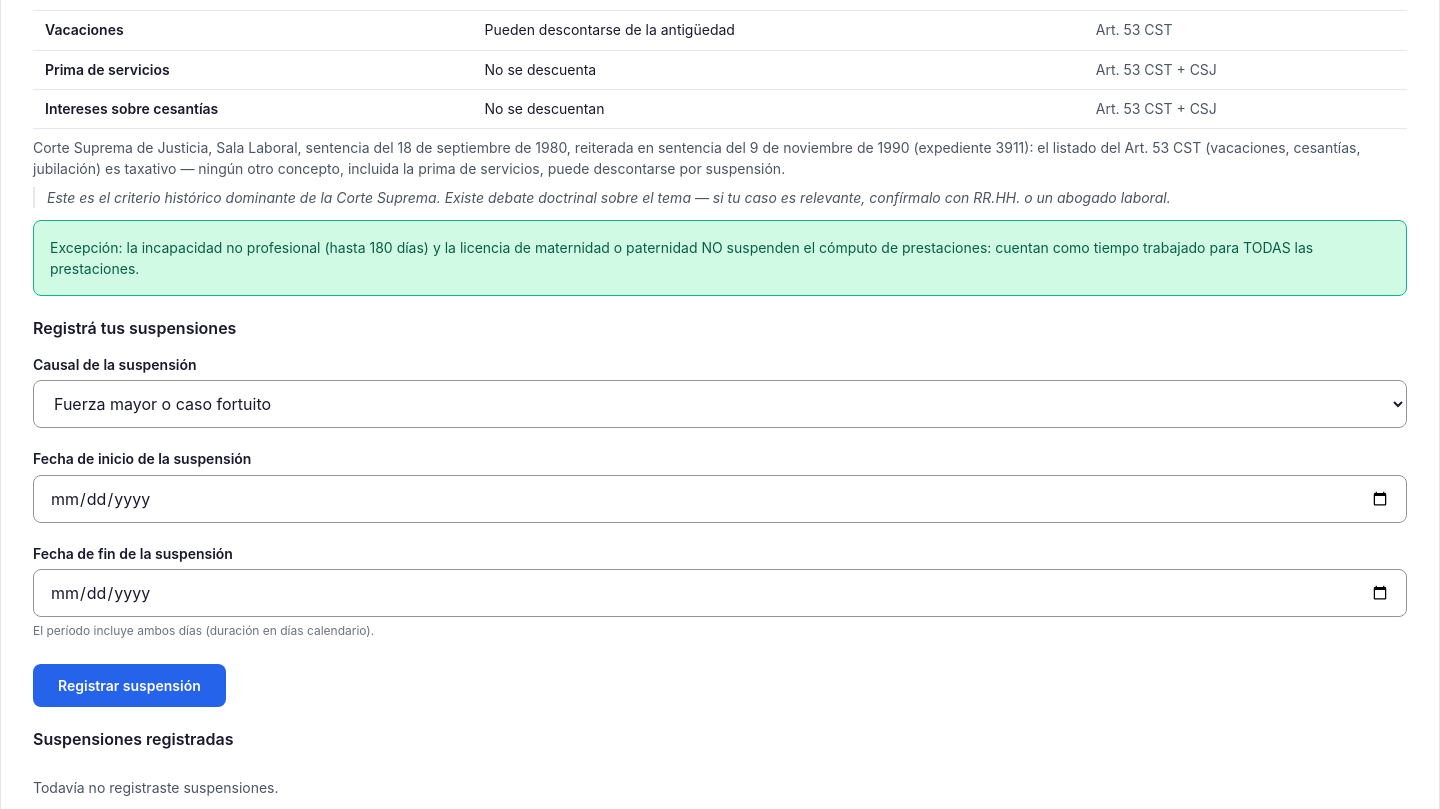
it: SuspensionSection — registry CRUD + persistence (REQ-4) › adds a period, renders it and persists it under nomina-clara-suspensiones
(page scrolled)
Step 1. Select "Fuerza mayor o caso fortuito" in the dropdown labelled "Causal de la suspensión" → (720, 404), box [33, 380, 1407, 428]
Step 2. Type "2026-01-01" into the date field labelled "Fecha de inicio de la suspensión" → (720, 499), box [33, 475, 1407, 523]
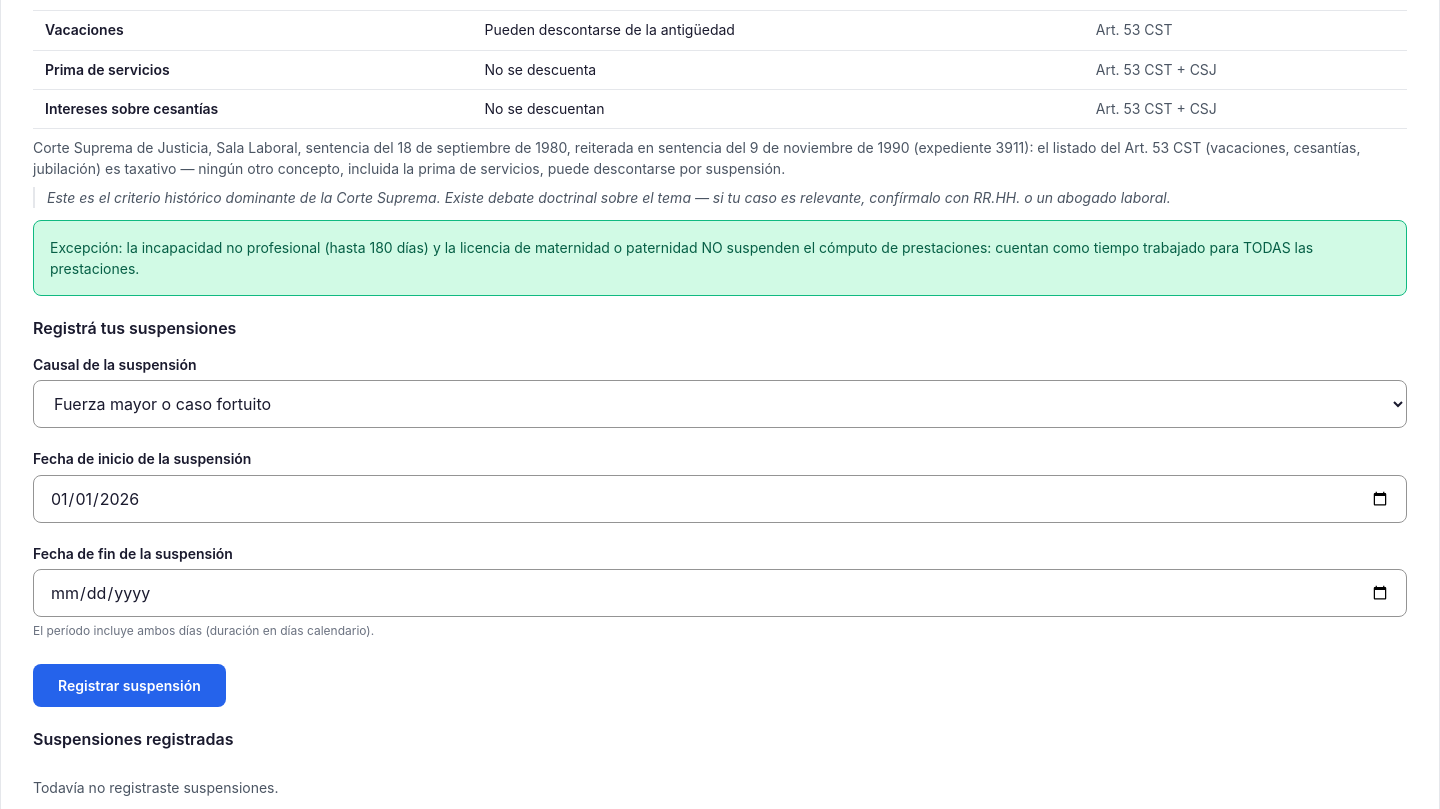
Step 3. Type "2026-01-05" into the date field labelled "Fecha de fin de la suspensión" → (720, 593), box [33, 569, 1407, 617]
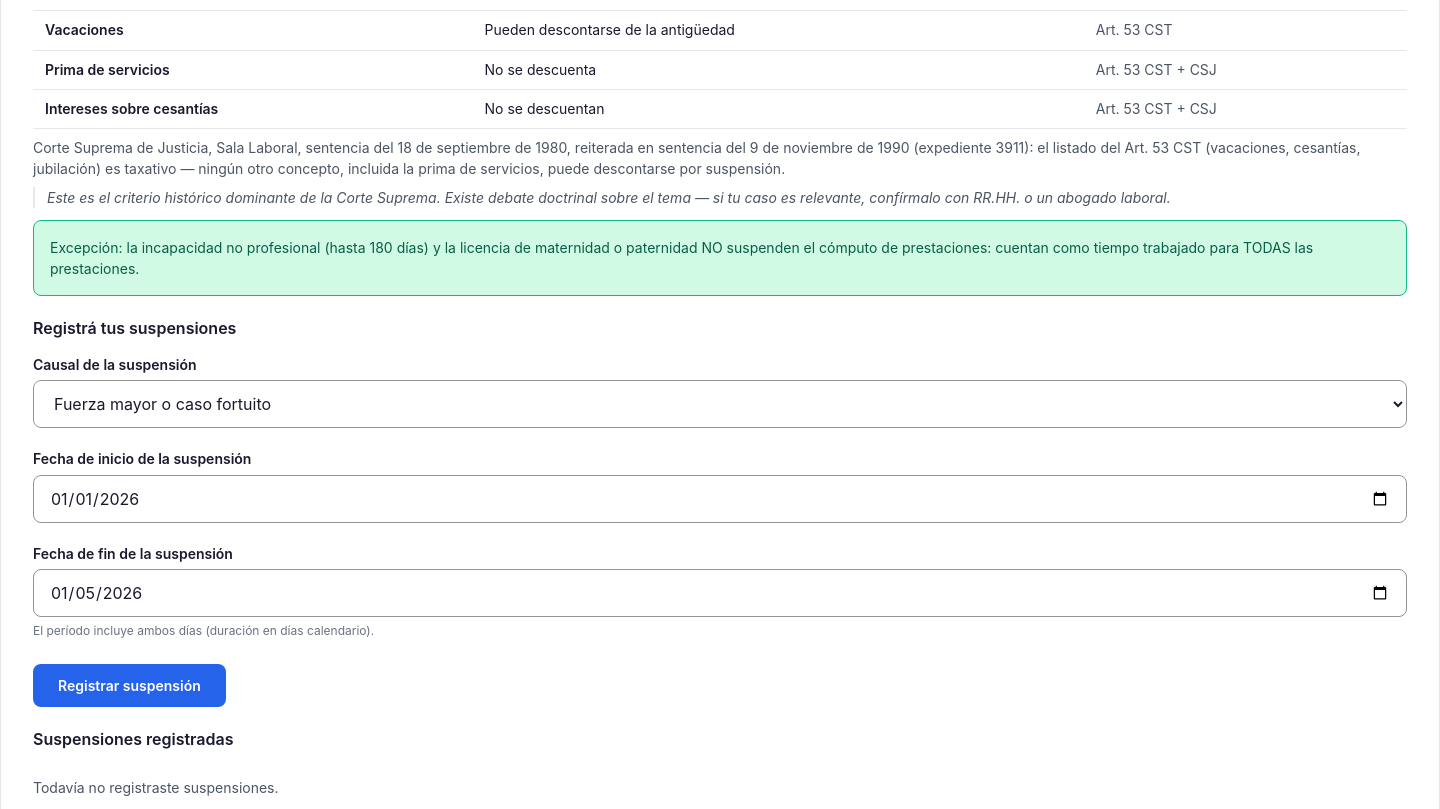
Step 4. Click the button "Registrar suspensión" → click(129, 686), box [33, 664, 226, 707]
(page scrolled)
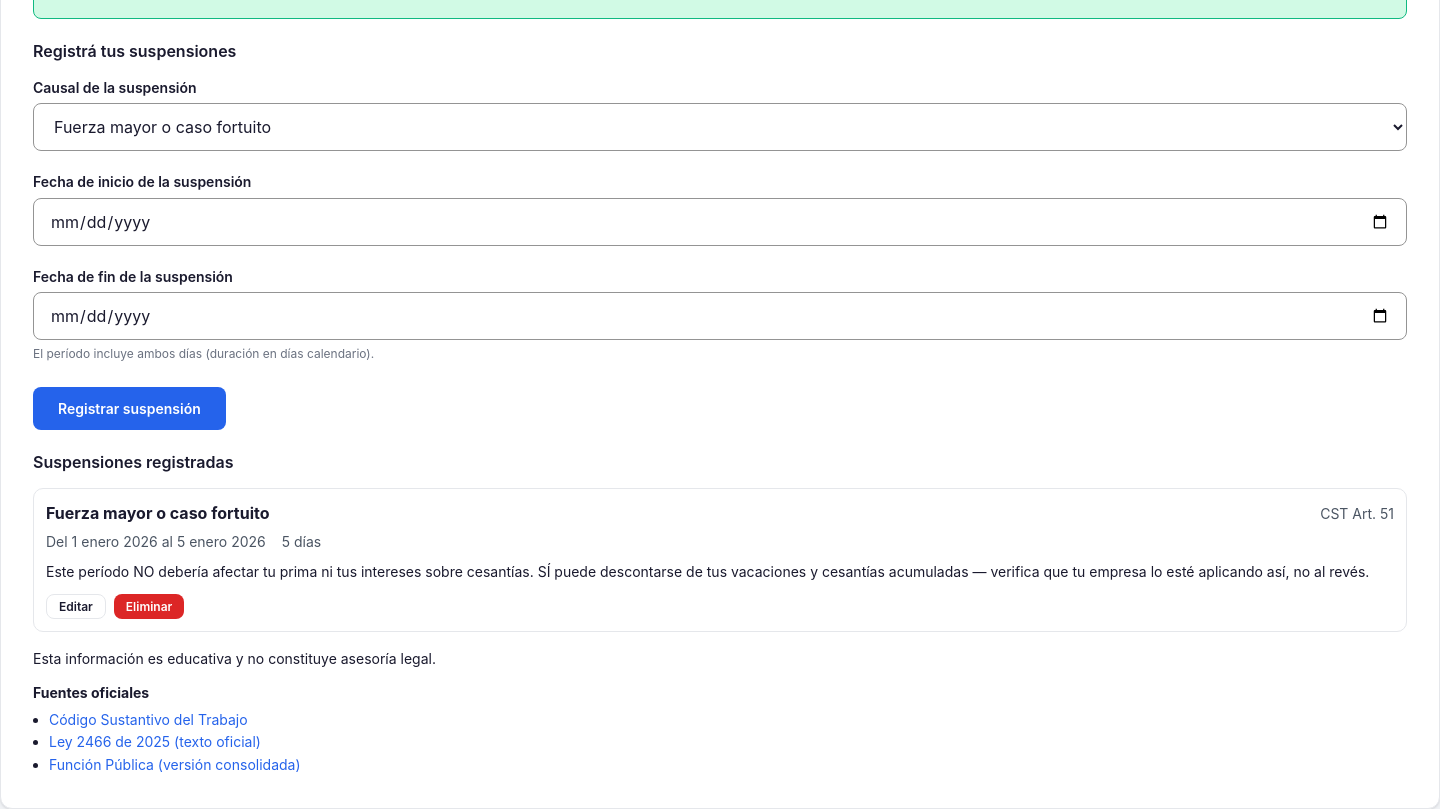
Check: the text "Del 1 enero 2026 al 5 enero 2026" is shown, box [46, 530, 266, 553]
Check: the text "5 días" is shown, box [282, 530, 321, 553]
